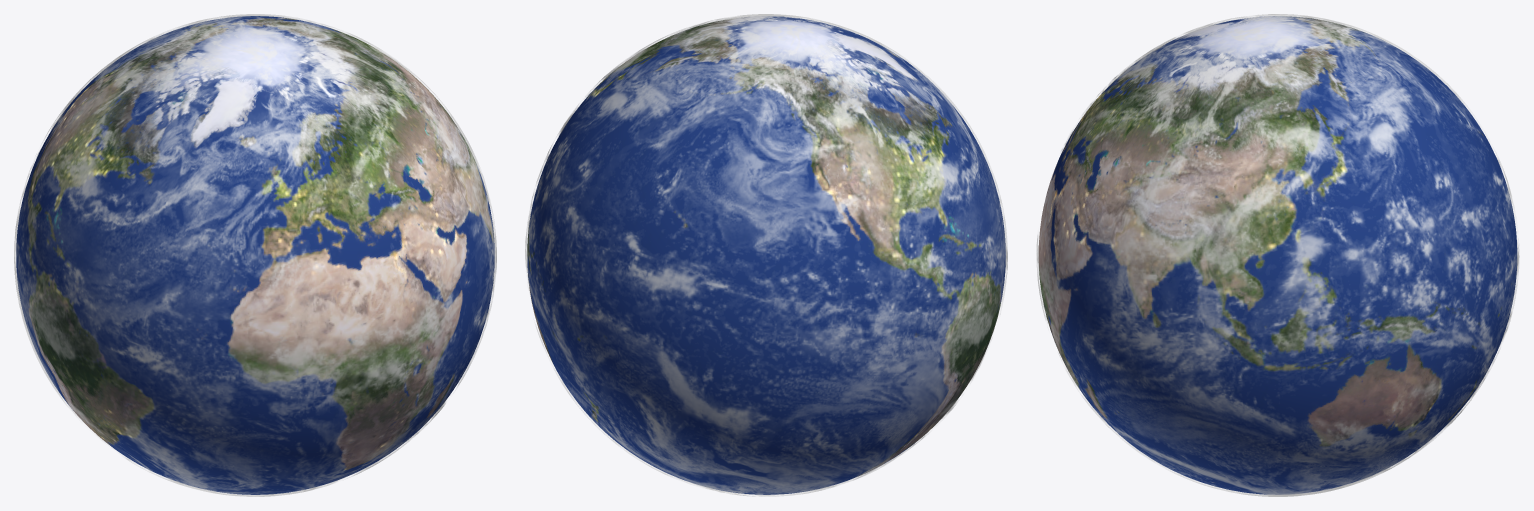
Rendered from earth.glb.
3 renders of one model, left to right at view 1: azimuth 30°, elevation 25°; view 2: azimuth 150°, elevation 25°; view 3: azimuth 270°, elevation 25°, orthographic.
Visible parts, largest first — view 1: Earth, Clouds; view 2: Earth, Clouds; view 3: Earth, Clouds.
Boxes of the visible parts, bbox=[...] form: Earth: bbox=[16, 16, 494, 494]; Clouds: bbox=[14, 14, 496, 496]; Earth: bbox=[527, 16, 1005, 494]; Clouds: bbox=[525, 14, 1007, 496]; Earth: bbox=[1038, 16, 1517, 494]; Clouds: bbox=[1036, 14, 1519, 496].
Size of the model in its own units: 2.72 by 2.72 by 2.72.
Materials: 2 (2 with a texture image).
